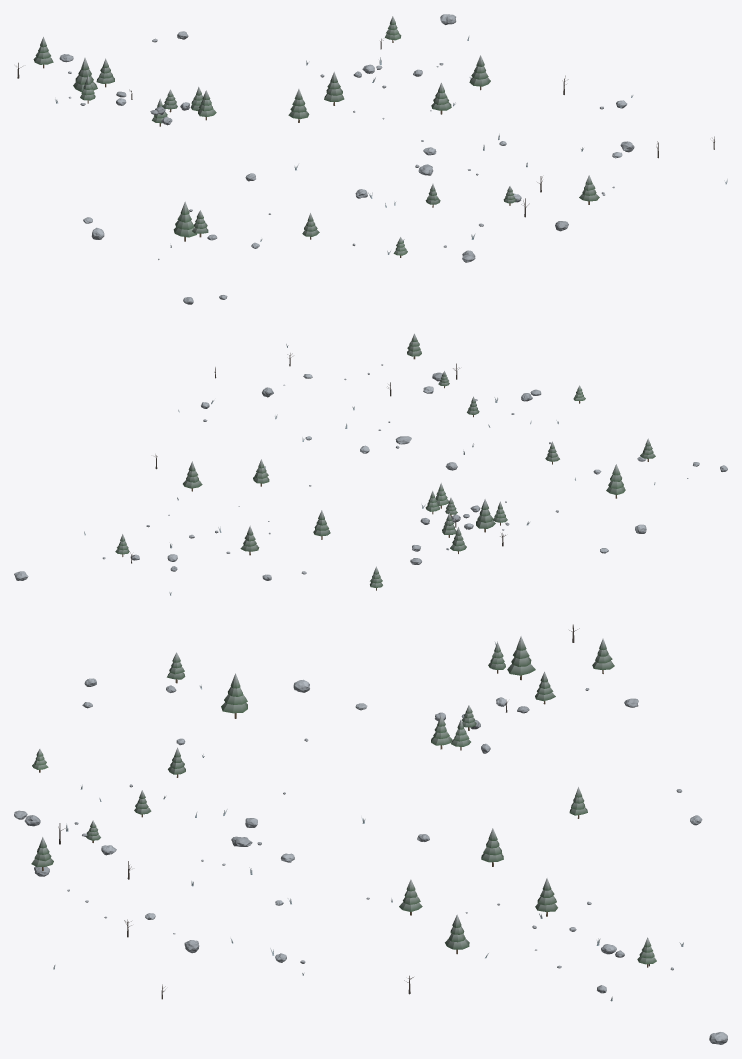
File: frost_land_scatter_c17_10.glb
The picture shows the model from 3 angles, top to bottom: view 1: azimuth 30°, elevation 25°; view 2: azimuth 150°, elevation 25°; view 3: azimuth 270°, elevation 25°; orthographic projection. The views are drawn at different scales.
Parts seen in each view (by area): view 1: frost_land_scatter_c17_10; view 2: frost_land_scatter_c17_10; view 3: frost_land_scatter_c17_10.
Part boxes in pixels (left/top/right/bottom): frost_land_scatter_c17_10: left=16, top=14, right=727, bottom=304; frost_land_scatter_c17_10: left=14, top=333, right=727, bottom=595; frost_land_scatter_c17_10: left=14, top=624, right=727, bottom=1044.
Bounding box in the file's own units: 239 × 57.03 × 232.
